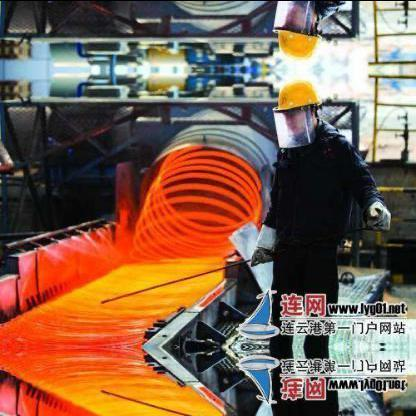Helmet: (272, 68, 324, 141), (272, 0, 324, 68)
